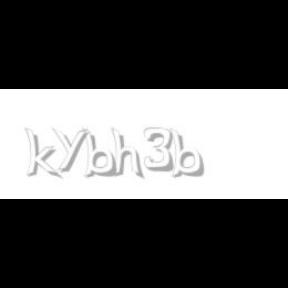3: (144, 128, 176, 172)
b: (82, 128, 120, 178), (169, 128, 207, 178)
h: (110, 128, 145, 180)
k: (24, 128, 62, 180)
y: (52, 128, 92, 172)
